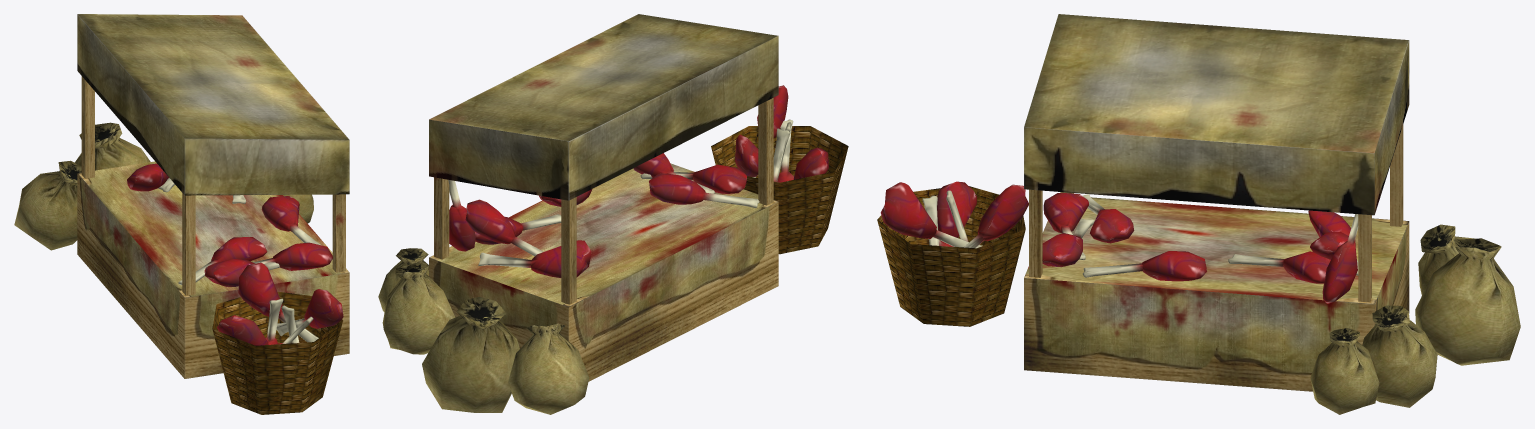
Rendered from meat_store01.fbx.
3 renders of one model, left to right at view 1: azimuth 30°, elevation 25°; view 2: azimuth 150°, elevation 25°; view 3: azimuth 270°, elevation 25°, orthographic. The views are drawn at different scales.
Parts seen in each view (by area): view 1: stand_meat_11, basket_11, bag_44, bag_41, meat_143, meat_154, meat_142, meat_152, meat_153, meat_151, meat_141, meat_148 (+3 smaller); view 2: stand_meat_11, bag_41, basket_11, bag_44, bag_42, meat_153, meat_148, meat_147, meat_151, meat_149, bag_43, meat_143 (+6 smaller); view 3: stand_meat_11, basket_11, bag_41, bag_42, bag_43, meat_142, meat_152, meat_143, meat_149, bag_44, meat_150, meat_141 (+5 smaller).
Part boxes in pixels (x1=…): stand_meat_11: x1=77, y1=14, x2=349, y2=378; basket_11: x1=212, y1=291, x2=342, y2=414; bag_44: x1=14, y1=160, x2=81, y2=250; bag_41: x1=75, y1=122, x2=150, y2=170; meat_143: x1=238, y1=262, x2=318, y2=342; meat_154: x1=253, y1=242, x2=332, y2=270; meat_142: x1=276, y1=289, x2=343, y2=336; meat_152: x1=261, y1=196, x2=321, y2=245; meat_153: x1=178, y1=237, x2=267, y2=284; meat_151: x1=204, y1=259, x2=279, y2=286; meat_141: x1=217, y1=315, x2=268, y2=345; meat_148: x1=127, y1=163, x2=168, y2=191; stand_meat_11: x1=429, y1=14, x2=778, y2=381; bag_41: x1=422, y1=297, x2=519, y2=412; basket_11: x1=711, y1=126, x2=848, y2=254; bag_44: x1=508, y1=323, x2=589, y2=414; bag_42: x1=382, y1=262, x2=455, y2=354; meat_153: x1=649, y1=173, x2=759, y2=208; meat_148: x1=478, y1=240, x2=591, y2=277; meat_147: x1=465, y1=199, x2=543, y2=256; meat_151: x1=640, y1=164, x2=746, y2=193; meat_149: x1=448, y1=180, x2=475, y2=251; bag_43: x1=378, y1=248, x2=428, y2=312; meat_143: x1=735, y1=134, x2=758, y2=176; stand_meat_11: x1=1024, y1=14, x2=1409, y2=391; basket_11: x1=877, y1=186, x2=1025, y2=326; bag_41: x1=1415, y1=238, x2=1520, y2=365; bag_42: x1=1362, y1=305, x2=1437, y2=407; bag_43: x1=1310, y1=328, x2=1379, y2=414; meat_142: x1=880, y1=182, x2=982, y2=248; meat_152: x1=1082, y1=251, x2=1207, y2=281; meat_143: x1=964, y1=184, x2=1028, y2=248; meat_149: x1=1322, y1=214, x2=1358, y2=303; bag_44: x1=1418, y1=224, x2=1493, y2=294; meat_150: x1=1228, y1=251, x2=1330, y2=283; meat_141: x1=937, y1=181, x2=976, y2=240.
Size of the model in its own units: 64.45 by 58.16 by 119.
